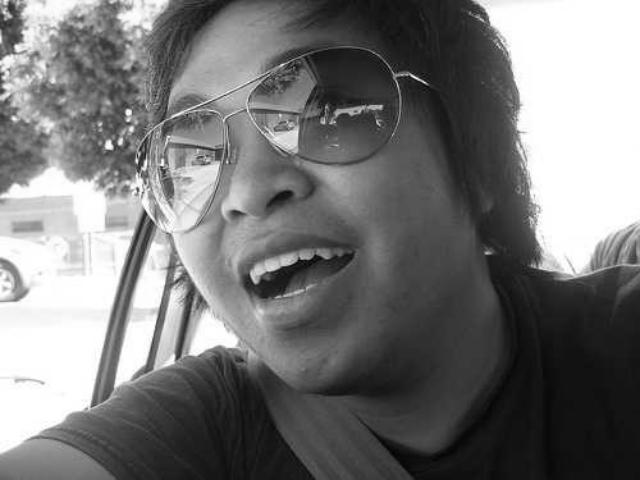Seatbelt: (240, 342, 418, 480)
